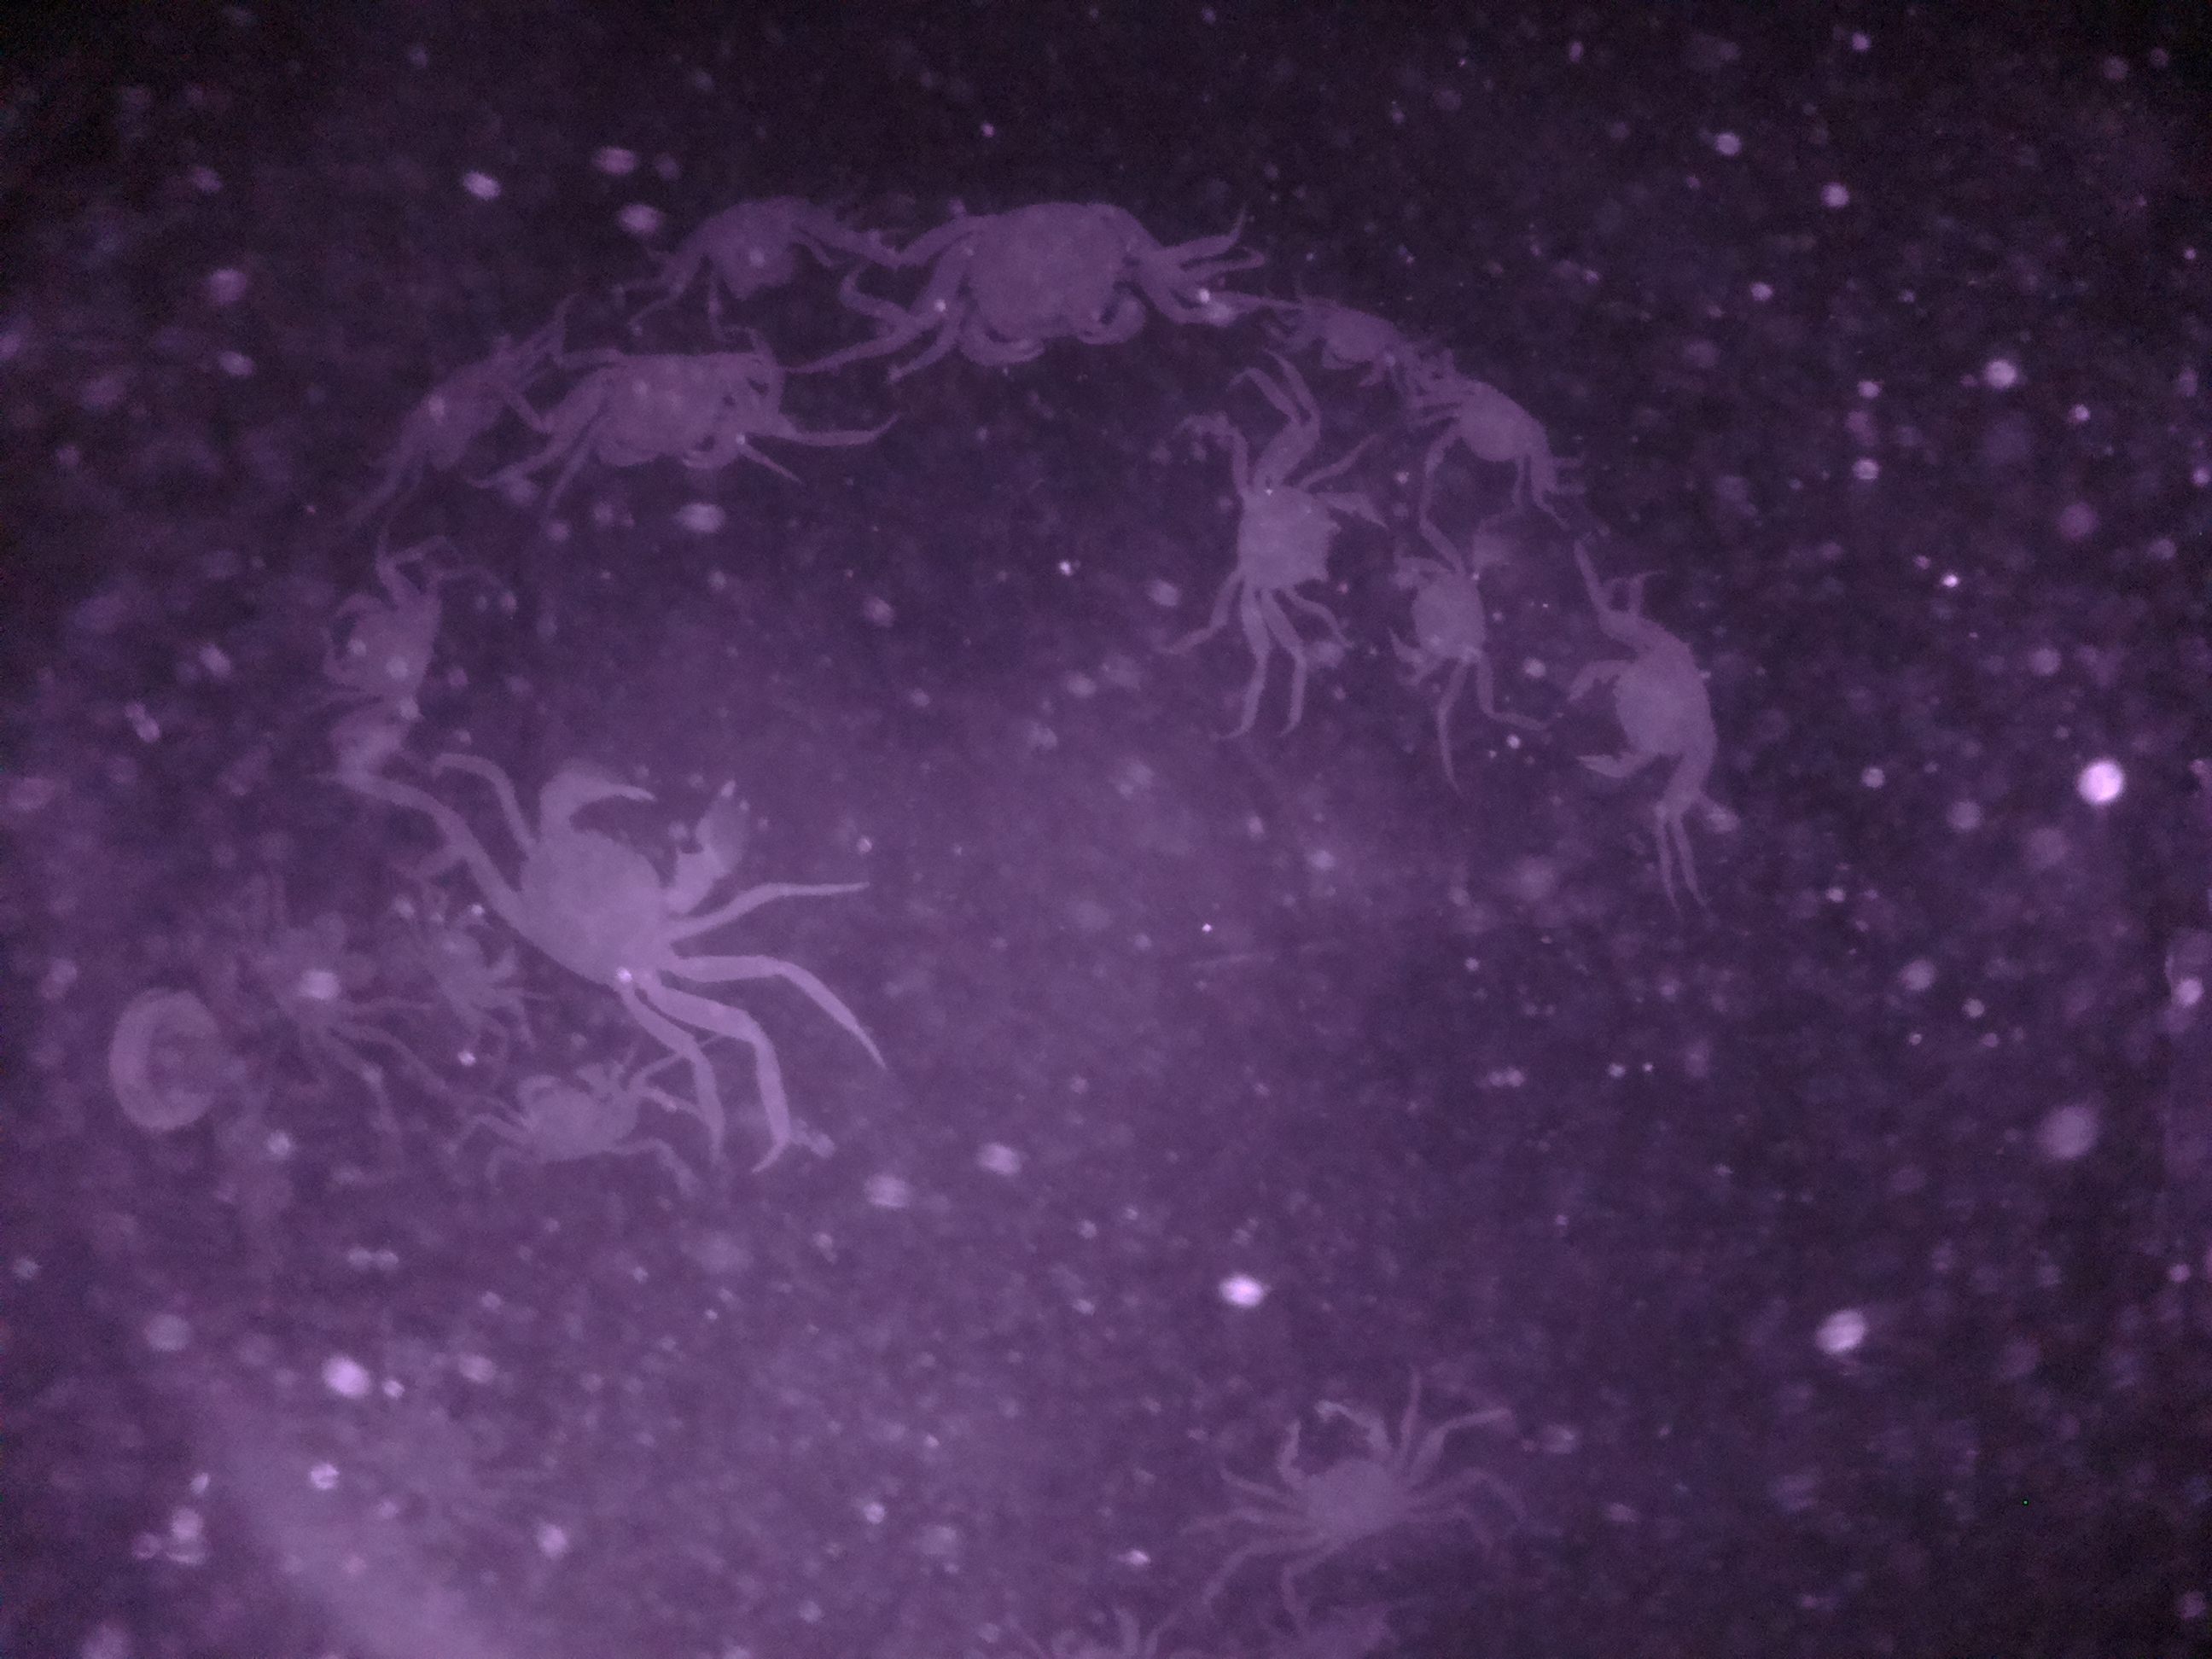Crab: (916, 181, 1177, 371), (1231, 1385, 1439, 1574), (1548, 613, 1745, 803), (545, 331, 766, 488), (1211, 436, 1372, 648), (1399, 352, 1595, 511), (481, 1054, 653, 1188), (1369, 528, 1494, 681)
